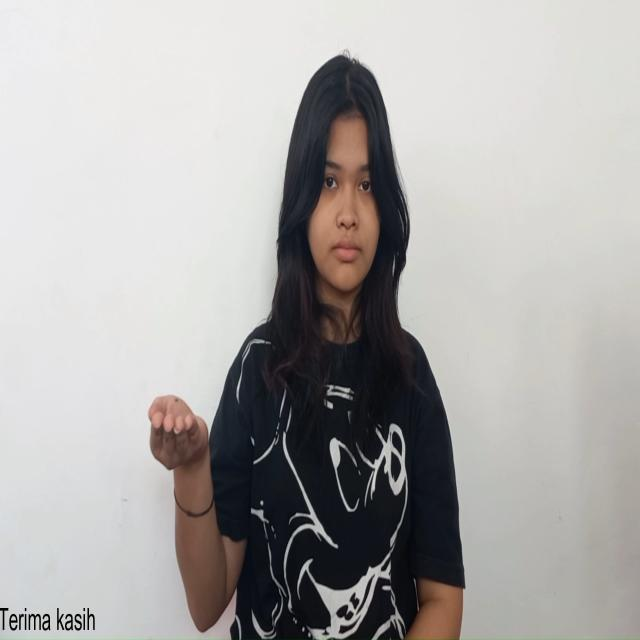Terima kasih -BISINDO-: (146, 390, 212, 490)
